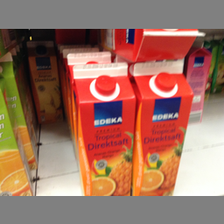juice: (129, 60, 194, 195), (70, 62, 135, 195), (26, 40, 63, 124)
